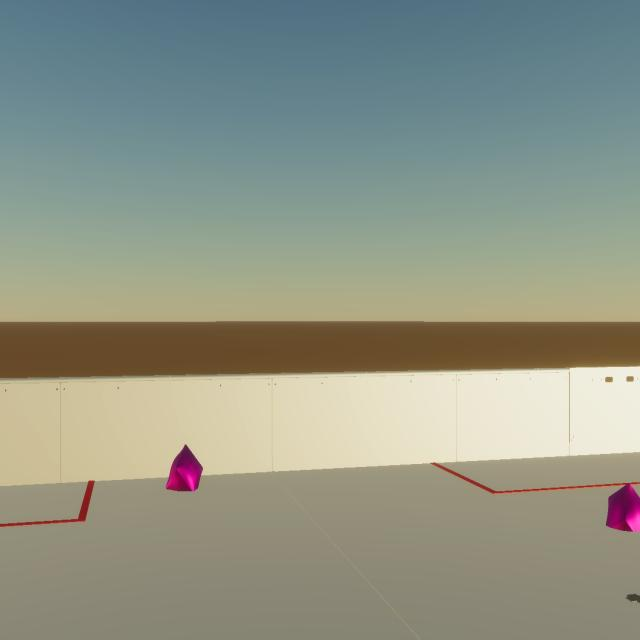frc_cube: (166, 444, 203, 492), (605, 483, 640, 531)
